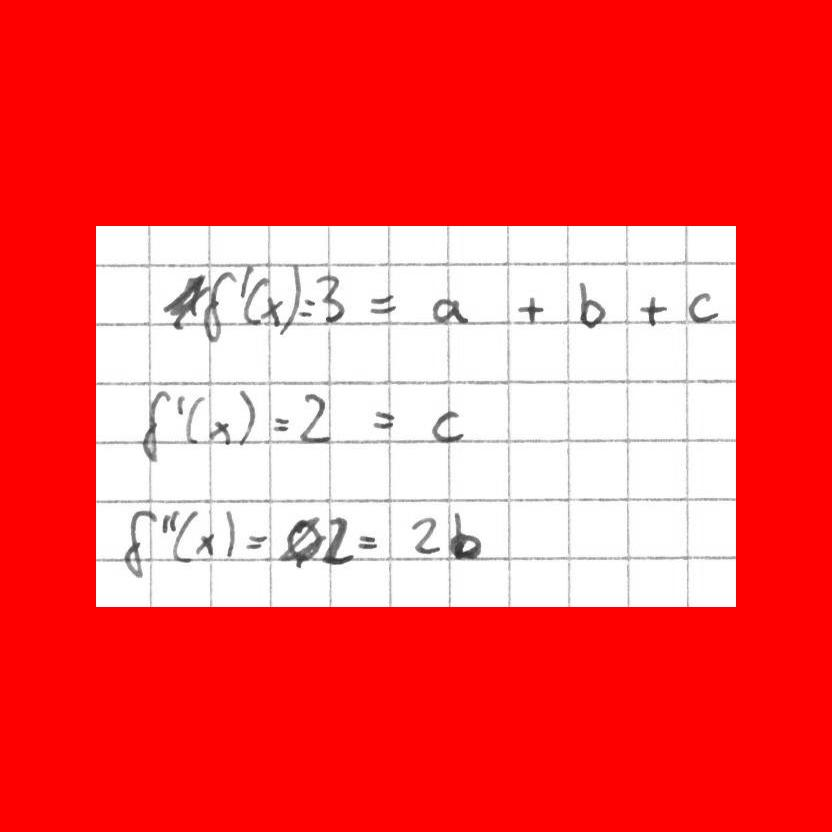Char: (201, 268, 237, 343), (122, 504, 156, 581), (295, 392, 336, 447), (141, 387, 170, 464), (279, 259, 305, 338), (448, 508, 486, 560), (321, 514, 355, 568), (576, 277, 610, 330), (315, 272, 347, 325), (171, 506, 197, 566), (407, 513, 444, 554), (428, 294, 472, 326), (427, 408, 465, 445), (684, 289, 723, 325), (235, 386, 257, 448), (243, 275, 269, 326), (638, 292, 671, 328), (366, 290, 404, 319), (184, 392, 205, 444), (516, 294, 549, 325), (367, 407, 403, 433), (258, 294, 287, 324), (223, 505, 239, 559), (207, 420, 235, 446), (243, 528, 270, 553), (194, 529, 217, 555), (160, 507, 180, 534), (299, 294, 319, 319), (356, 531, 381, 551), (271, 411, 292, 434), (241, 263, 253, 297), (173, 391, 188, 418)
